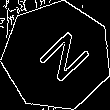N_SW: (25, 24, 89, 88)
